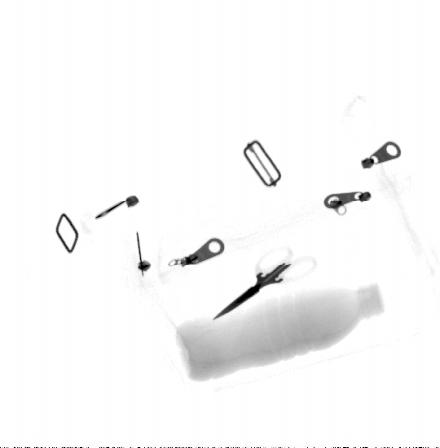Scissors: (211, 245, 320, 320)
